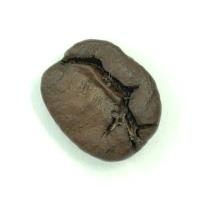NG: (62, 48, 149, 142)
